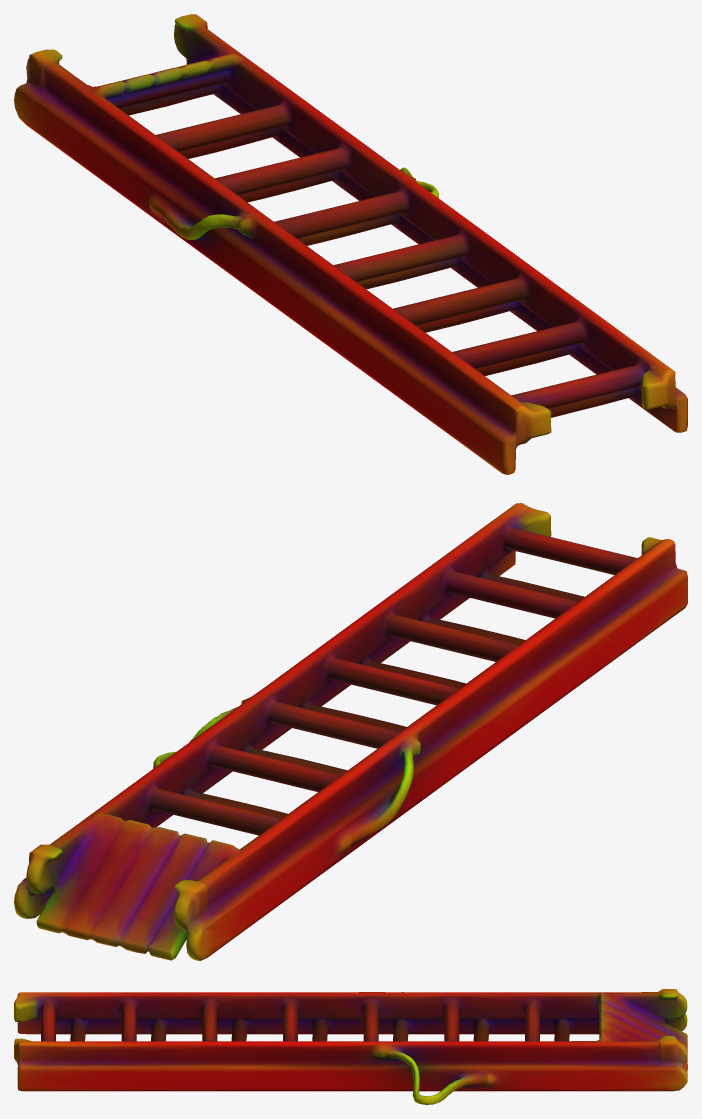
Rendered from SM_Ladder2.fbx.
3 views of the same model, one above another, from view 1: azimuth 30°, elevation 25°; view 2: azimuth 150°, elevation 25°; view 3: azimuth 270°, elevation 25° (orthographic). The views are drawn at different scales.
Parts seen in each view (by area): view 1: autouv1; view 2: autouv1; view 3: autouv1.
Boxes of the visible parts, box(x1,y1,x2,y2) form: autouv1: box(14, 14, 687, 474); autouv1: box(14, 503, 687, 960); autouv1: box(14, 989, 687, 1104).
Size of the model in its own units: 95.7 by 26.77 by 335.
